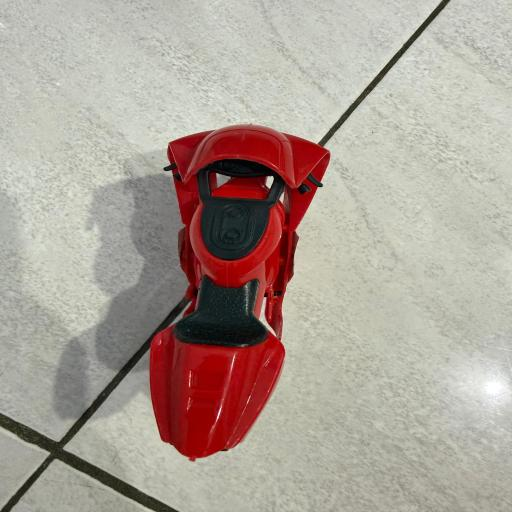motor-merah: (148, 124, 336, 464)
